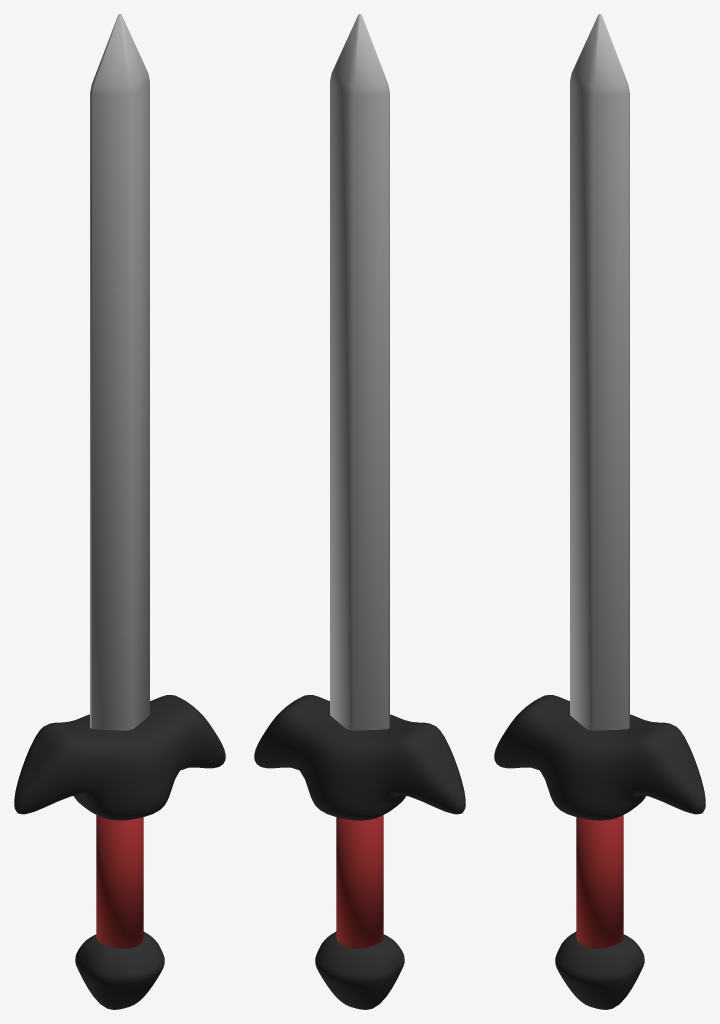
File: sword.glb
The picture shows the model from 3 angles, left to right: view 1: azimuth 30°, elevation 25°; view 2: azimuth 150°, elevation 25°; view 3: azimuth 330°, elevation 25°; orthographic projection.
Parts seen in each view (by area): view 1: Sword; view 2: Sword; view 3: Sword.
Part boxes in pixels (x1,y1,x2,y2): Sword: [14, 14, 225, 1009]; Sword: [254, 14, 465, 1009]; Sword: [494, 14, 705, 1009].
Bounding box in the file's own units: 0.48 × 2.18 × 0.2225.
